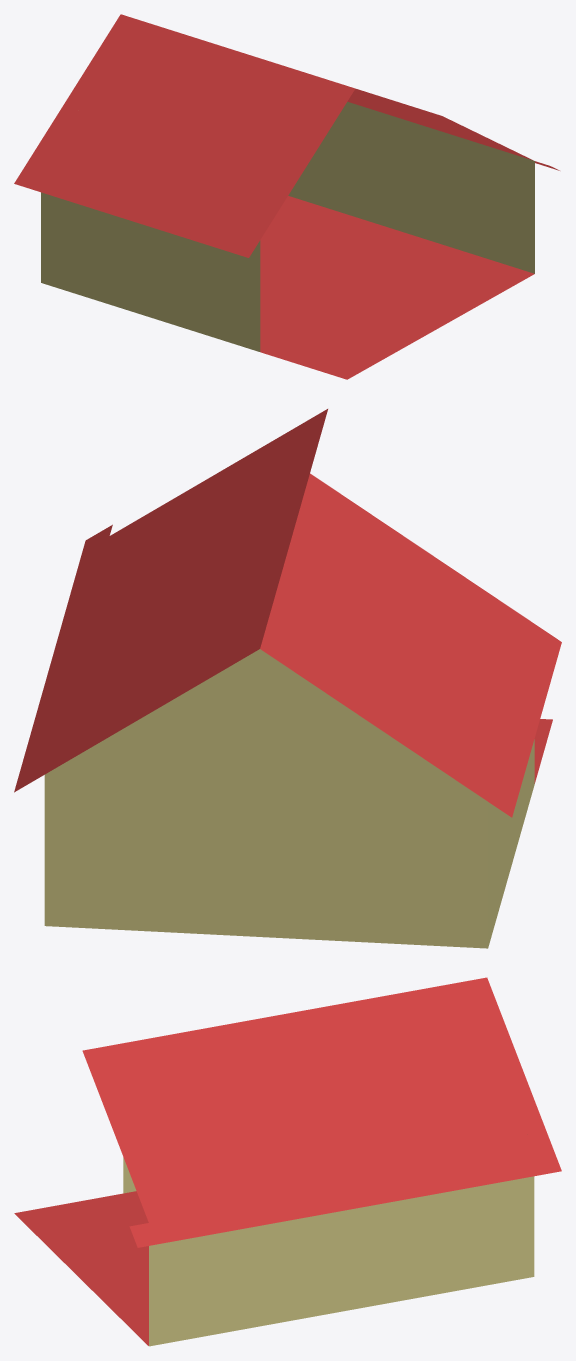
The picture shows the model from 3 angles, top to bottom: view 1: azimuth 30°, elevation 25°; view 2: azimuth 150°, elevation 25°; view 3: azimuth 270°, elevation 25°; orthographic projection. The views are drawn at different scales.
Bounding box in the file's own units: 25.37 × 25.95 × 12.03.
